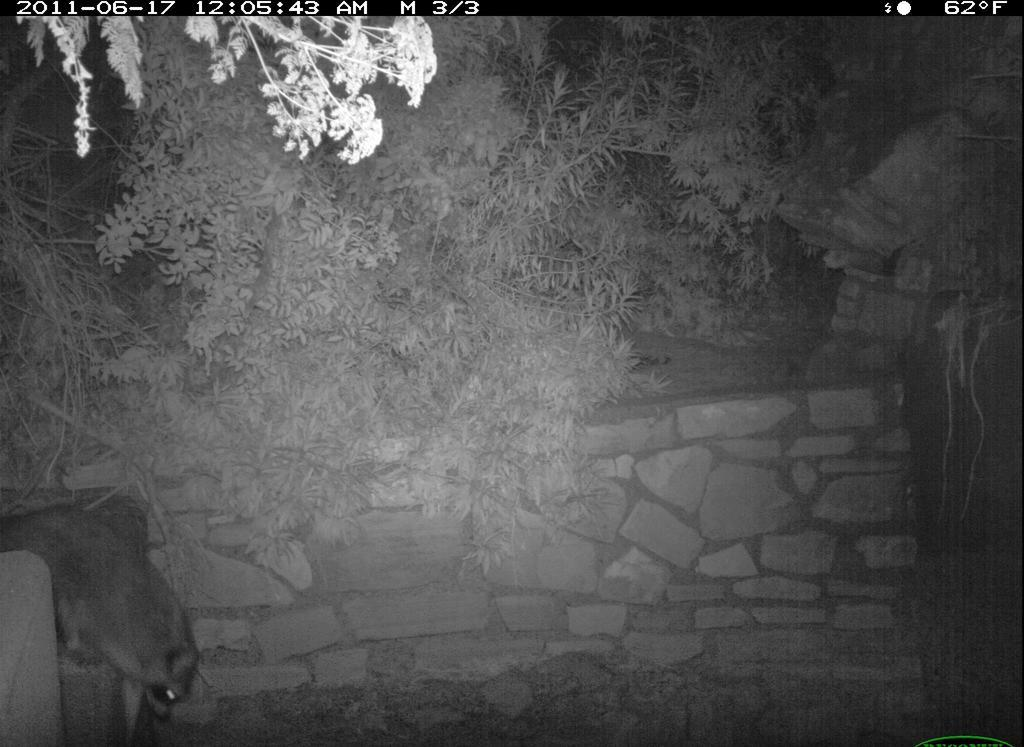raccoon: (4, 479, 212, 747)
